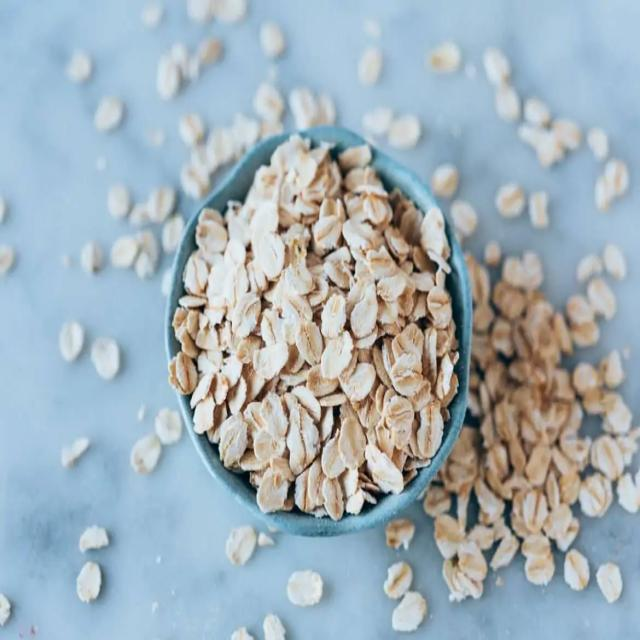avena: (167, 138, 460, 520)
